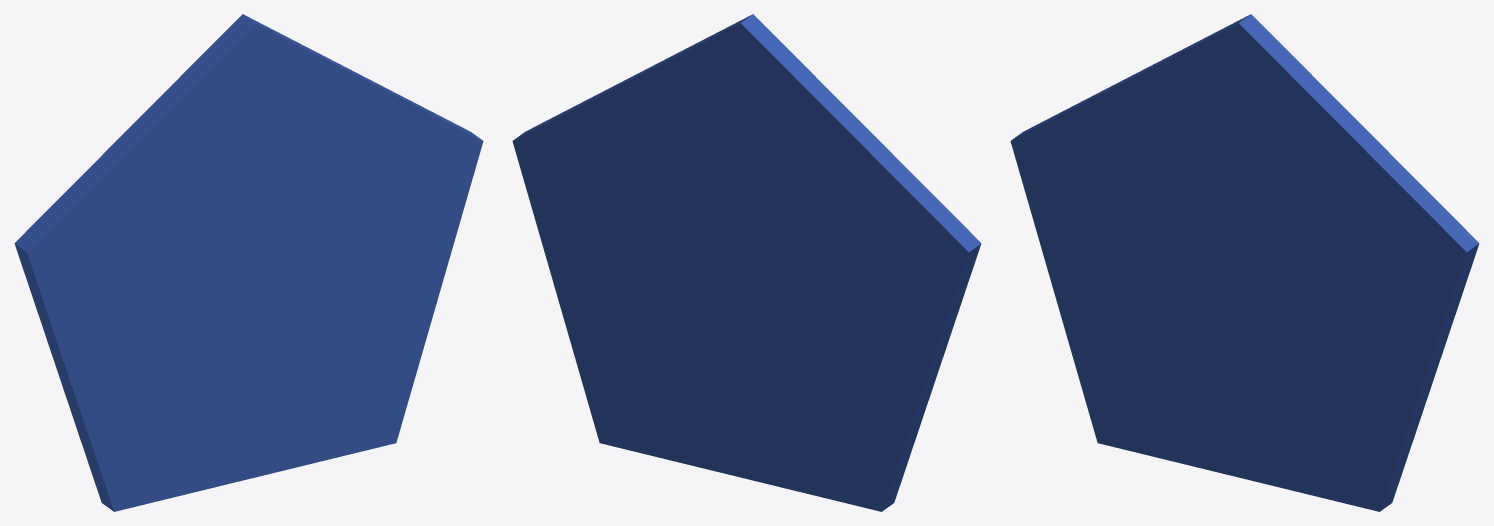
Rendered from Part Studio 1 - Part 58.dae.
The picture shows the model from 3 angles, left to right: view 1: azimuth 30°, elevation 25°; view 2: azimuth 150°, elevation 25°; view 3: azimuth 330°, elevation 25°; orthographic projection.
Visible parts, largest first — view 1: ID2; view 2: ID2; view 3: ID2.
Part boxes in pixels (x1=…): ID2: x1=14, y1=14, x2=483, y2=511; ID2: x1=512, y1=14, x2=981, y2=511; ID2: x1=1010, y1=14, x2=1479, y2=511.
Bounding box in the file's own units: 0.0421 × 0.002 × 0.04.
